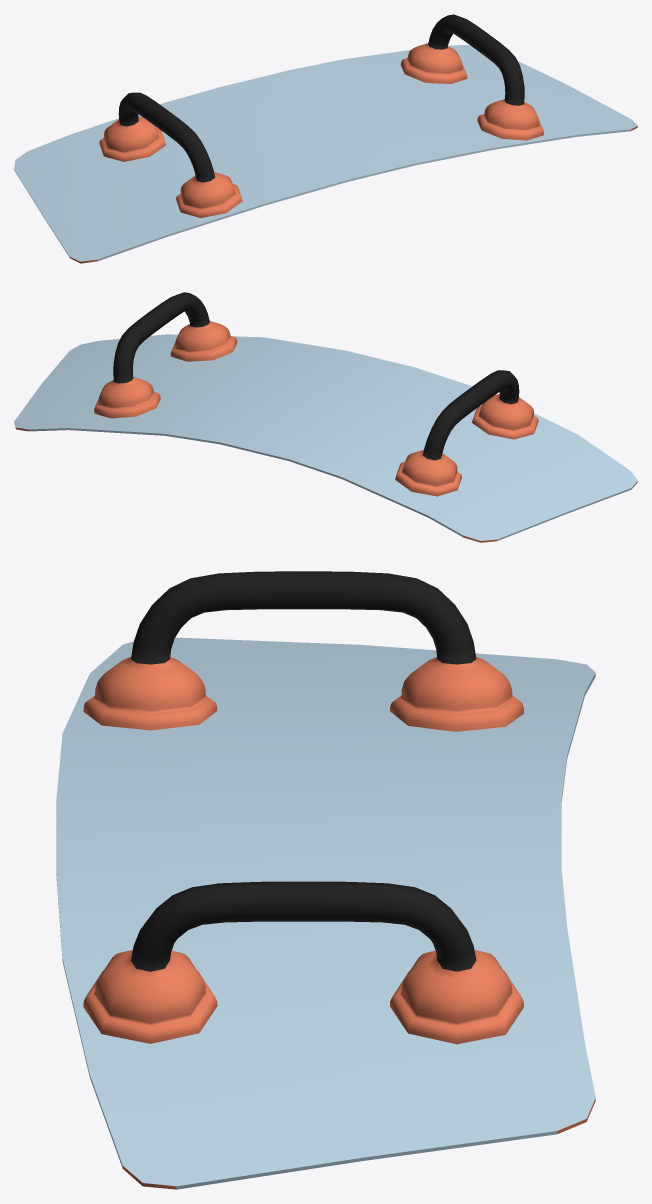
File: glass.fbx
3 views of the same model, one above another, from view 1: azimuth 30°, elevation 25°; view 2: azimuth 150°, elevation 25°; view 3: azimuth 270°, elevation 25° (orthographic). The views are drawn at different scales.
Parts seen in each view (by area): view 1: Plane.008; view 2: Plane.008; view 3: Plane.008.
Part boxes in pixels (left/top/right/bottom): Plane.008: left=14, top=14, right=637, bottom=263; Plane.008: left=14, top=292, right=637, bottom=542; Plane.008: left=56, top=571, right=595, bottom=1189.
Bounding box in the file's own units: 342 × 55.22 × 142.
